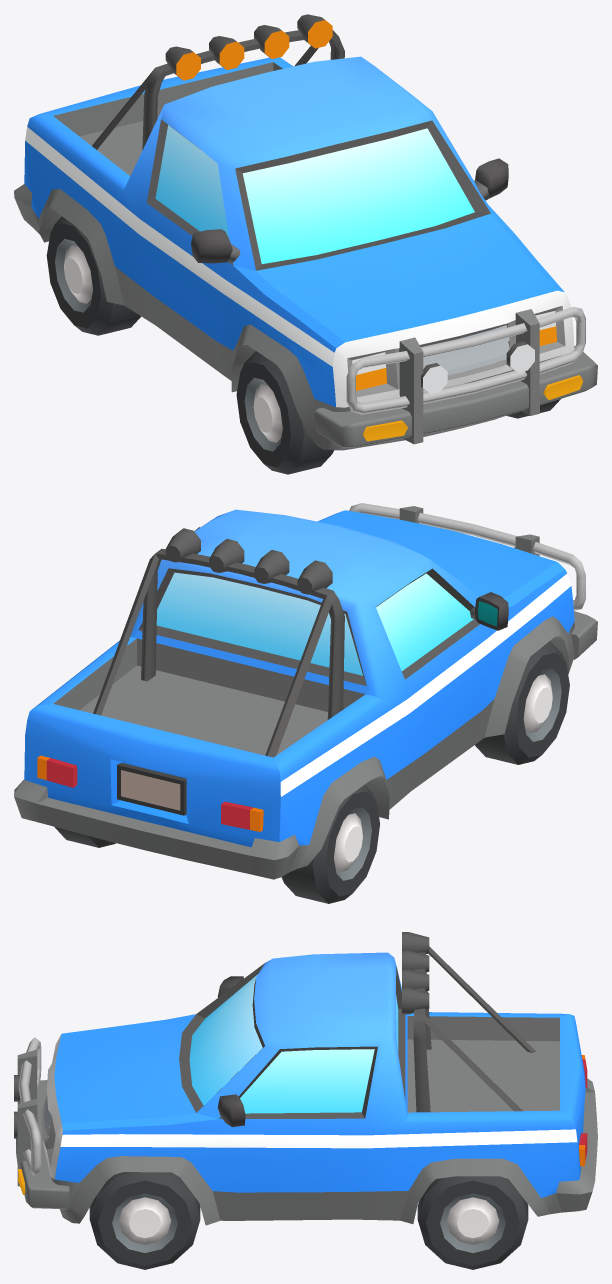
The model's file is car.glb.
3 renders of one model, top to bottom at view 1: azimuth 30°, elevation 25°; view 2: azimuth 150°, elevation 25°; view 3: azimuth 270°, elevation 25°, orthographic. The views are drawn at different scales.
Visible parts, largest first — view 1: Car_23, Wheel_097, Wheel_098; view 2: Car_23, Wheel_098, Wheel_097; view 3: Car_23, Wheel_099, Wheel_100.
Part boxes in pixels (box(x1,y1,x2,y2)): Car_23: box(14, 14, 597, 450); Wheel_097: box(236, 351, 333, 474); Wheel_098: box(46, 216, 140, 335); Car_23: box(14, 503, 597, 879); Wheel_098: box(281, 784, 379, 903); Wheel_097: box(475, 641, 569, 764); Car_23: box(14, 932, 597, 1225); Wheel_099: box(89, 1172, 200, 1269); Wheel_100: box(417, 1176, 528, 1269).
Size of the model in its own units: 2.38 by 2.14 by 4.47.
Materials: 2 (2 with a texture image).
